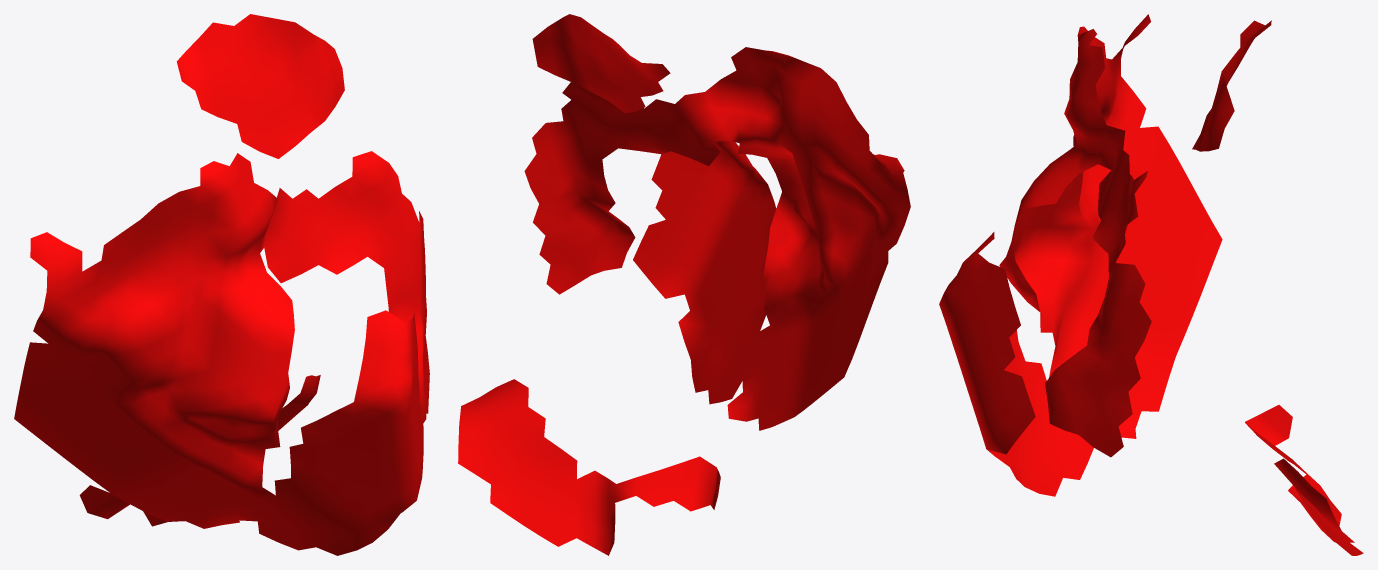
Rendered from SM_GPUI_RockAA_70.fbx.
The picture shows the model from 3 angles, left to right: view 1: azimuth 30°, elevation 25°; view 2: azimuth 150°, elevation 25°; view 3: azimuth 270°, elevation 25°; orthographic projection. The views are drawn at different scales.
Visible parts, largest first — view 1: SM_GPUI_RockAA_70; view 2: SM_GPUI_RockAA_70; view 3: SM_GPUI_RockAA_70.
Part boxes in pixels (left/top/right/bottom): SM_GPUI_RockAA_70: left=14, top=14, right=429, bottom=555; SM_GPUI_RockAA_70: left=458, top=14, right=910, bottom=555; SM_GPUI_RockAA_70: left=939, top=14, right=1363, bottom=555.
Bounding box in the file's own units: 866 × 1088 × 783.
